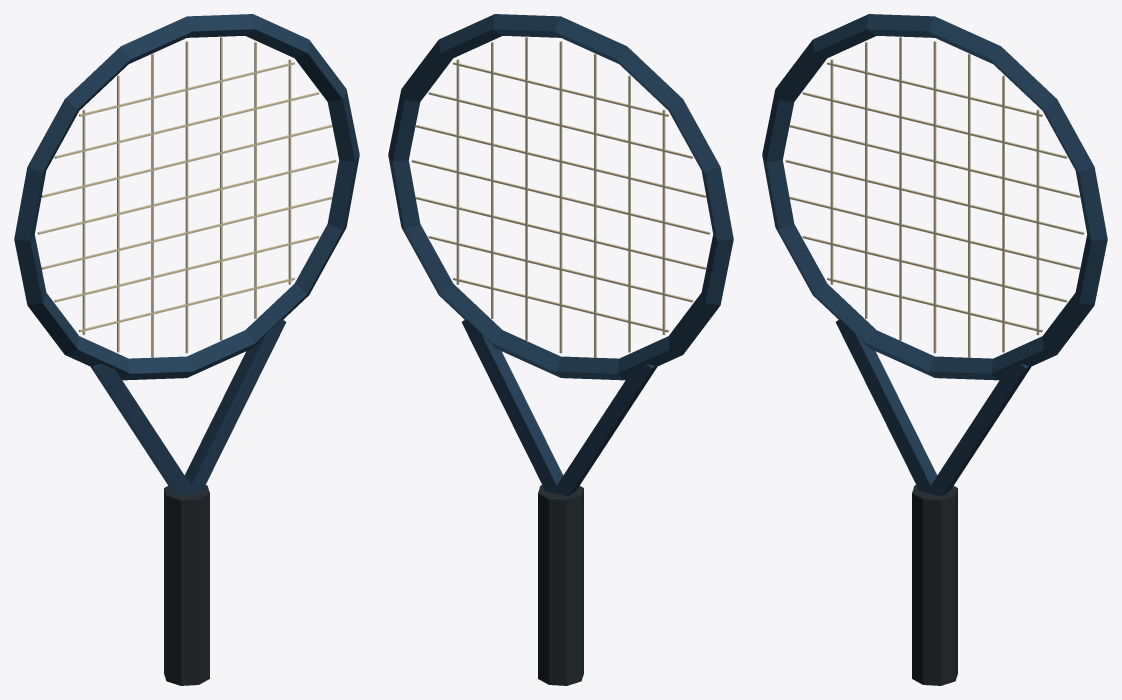
The model's file is b17_tennis_racket.glb.
The picture shows the model from 3 angles, left to right: view 1: azimuth 30°, elevation 25°; view 2: azimuth 150°, elevation 25°; view 3: azimuth 330°, elevation 25°; orthographic projection.
Visible parts, largest first — view 1: b17_tennis_racket; view 2: b17_tennis_racket; view 3: b17_tennis_racket.
Boxes of the visible parts, x1=… form: b17_tennis_racket: x1=14, y1=14, x2=359, y2=685; b17_tennis_racket: x1=388, y1=14, x2=733, y2=685; b17_tennis_racket: x1=762, y1=14, x2=1107, y2=685.
Size of the model in its own units: 0.302 by 0.551 by 0.036.
